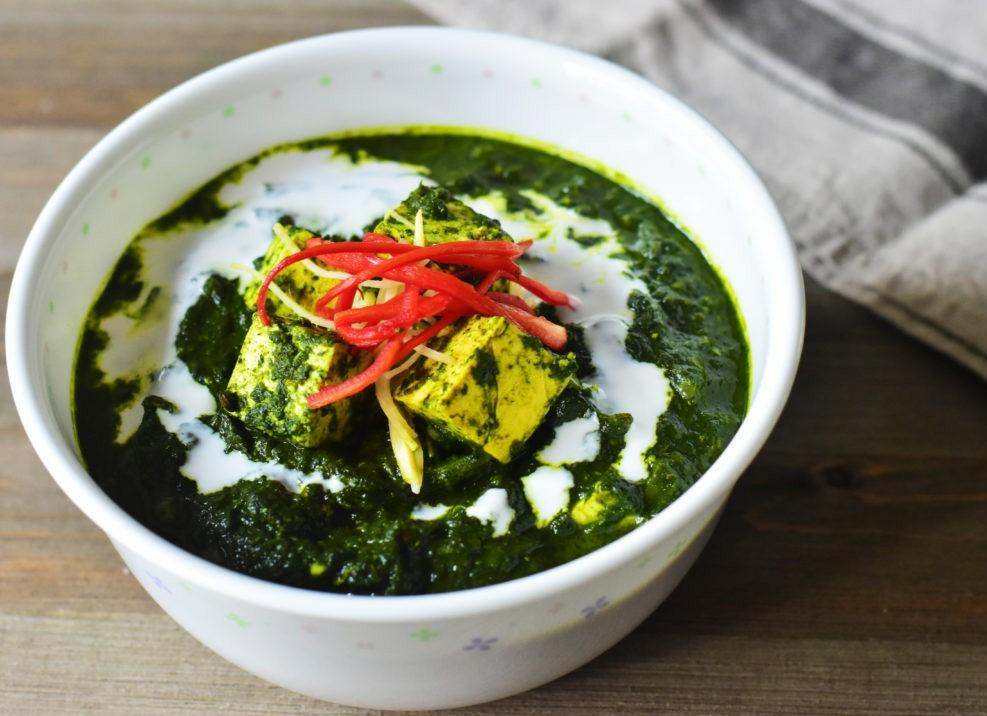PalakPaneer: (72, 125, 752, 597)
